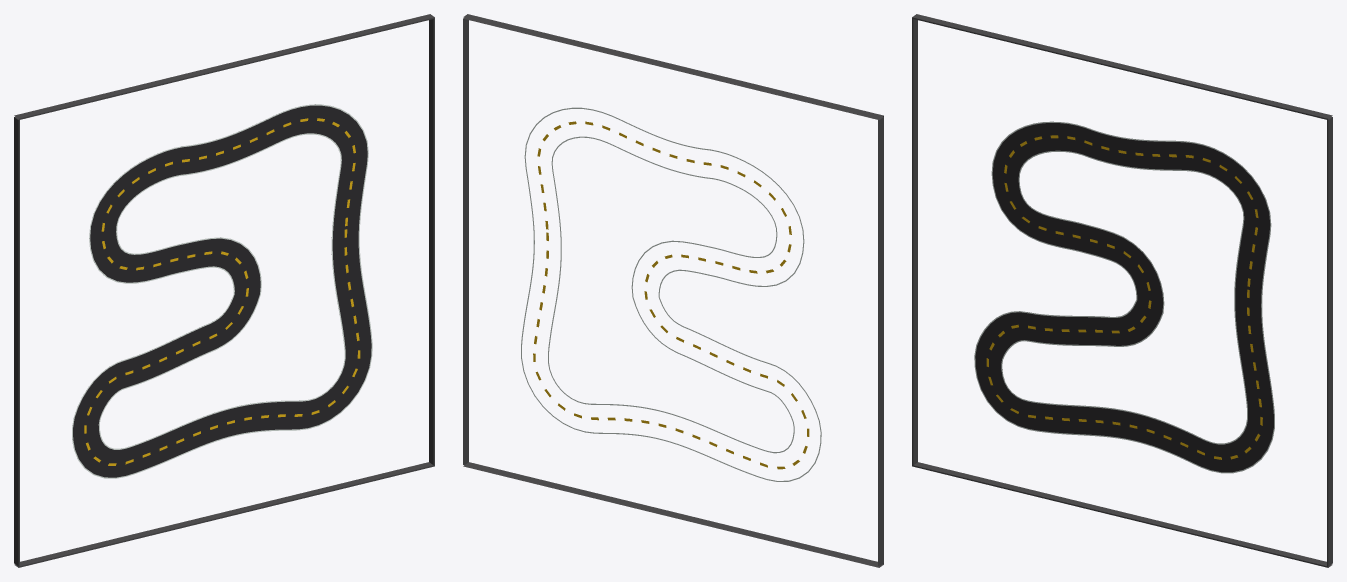
File: track.obj
3 renders of one model, left to right at view 1: azimuth 30°, elevation 25°; view 2: azimuth 150°, elevation 25°; view 3: azimuth 330°, elevation 25°, orthographic.
Bounding box in the file's own units: 15.85 × 16.34 × 0.3.
Materials: 4 (4 with a texture image).
